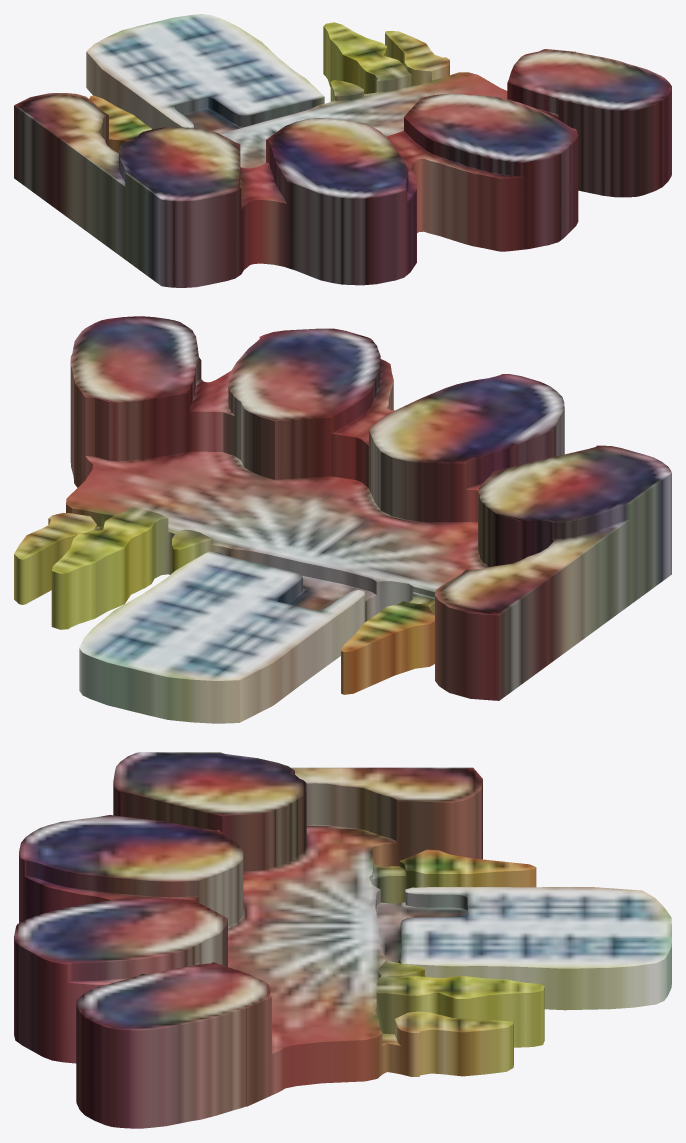
The model's file is por lo nuestro a lo universal 1.dae.
3 views of the same model, one above another, from view 1: azimuth 30°, elevation 25°; view 2: azimuth 150°, elevation 25°; view 3: azimuth 270°, elevation 25° (orthographic). The views are drawn at different scales.
Parts seen in each view (by area): view 1: SketchUp; view 2: SketchUp; view 3: SketchUp.
Part boxes in pixels (x1,y1,x2,y2): SketchUp: (14, 14, 671, 287); SketchUp: (14, 316, 671, 723); SketchUp: (14, 752, 671, 1128).
Bounding box in the file's own units: 14.42 × 14.41 × 2.37.
Materials: 2 (1 with a texture image).
